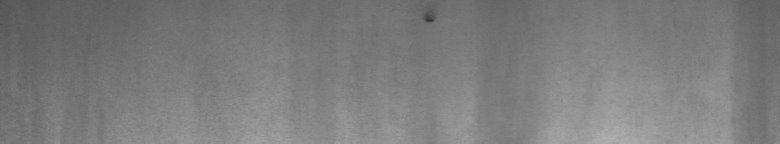fi: (420, 13, 437, 28)
